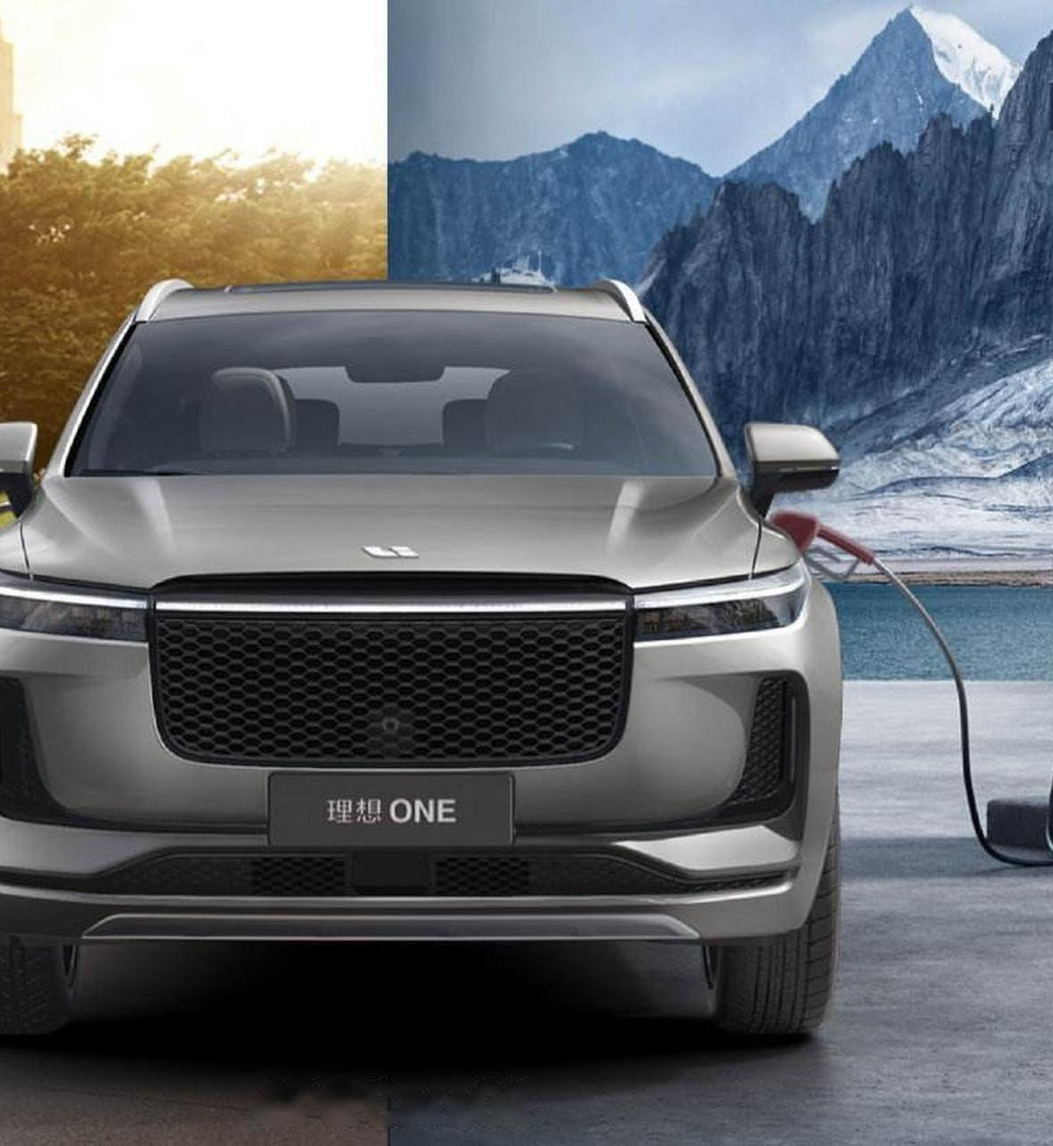Li Auto: (362, 544, 418, 560)
